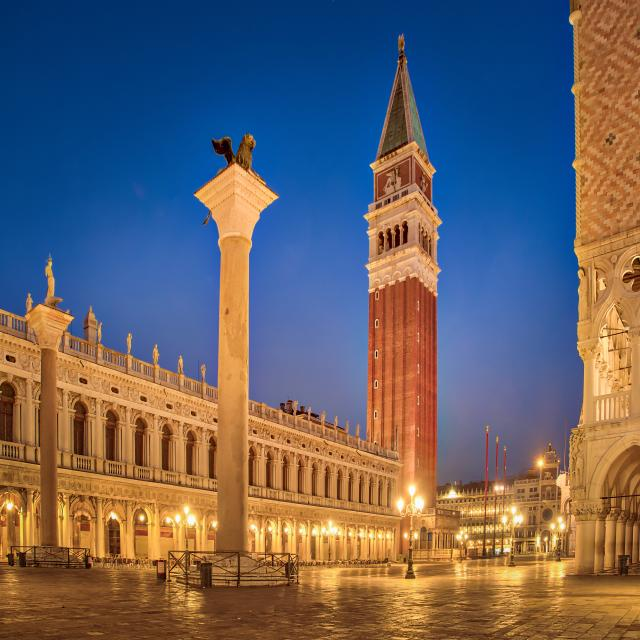Street Light: (396, 485, 424, 578), (175, 507, 195, 571), (503, 506, 522, 567), (536, 459, 544, 557), (322, 522, 337, 566), (551, 517, 565, 560), (456, 530, 465, 563)
